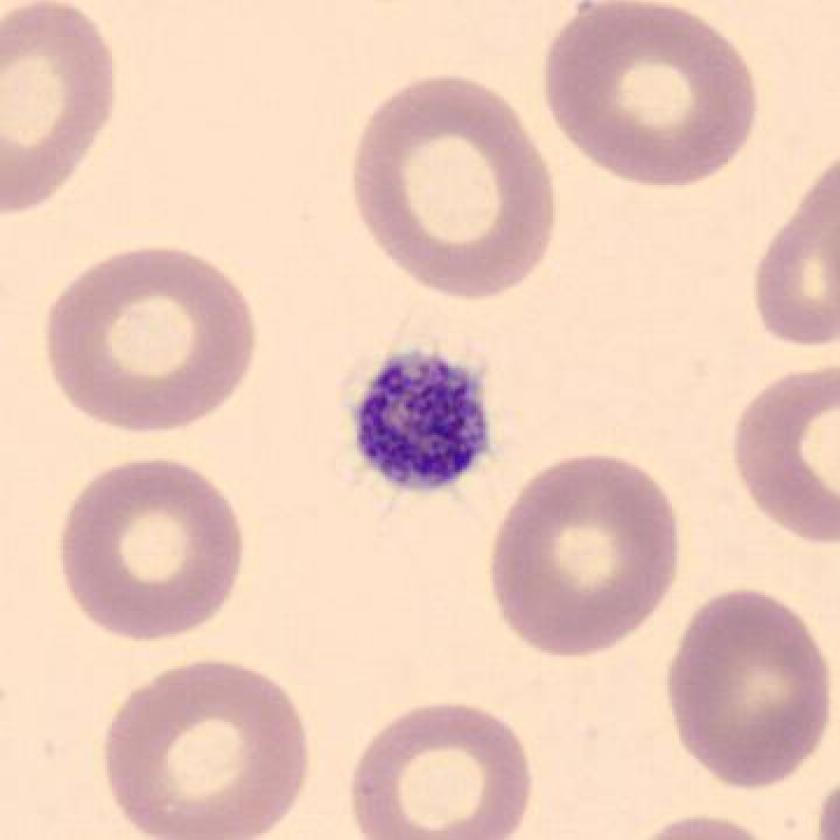platelets: (344, 337, 500, 508)
